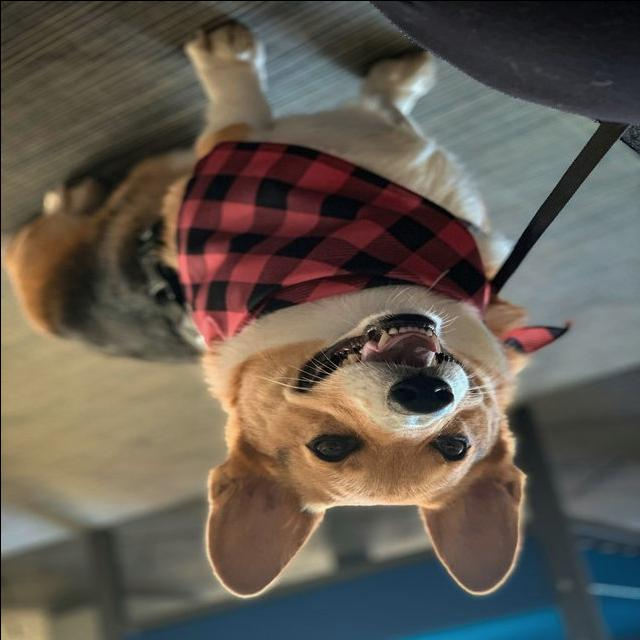corgi: (2, 21, 531, 600)
